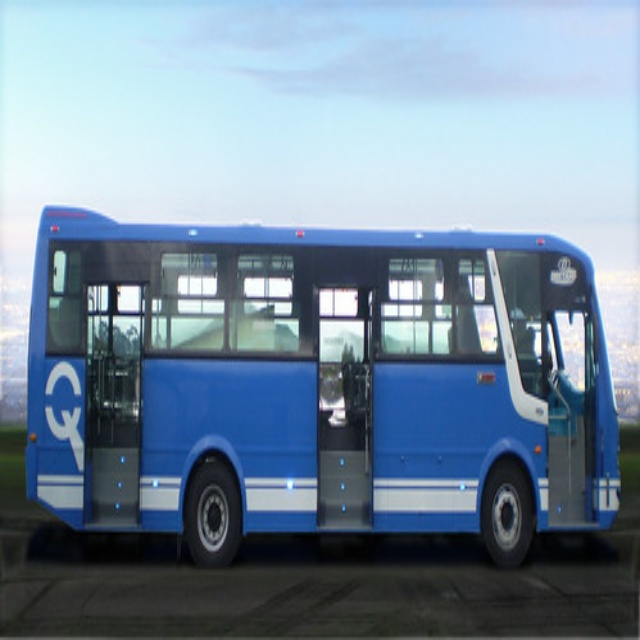Bus: (24, 208, 621, 570)
